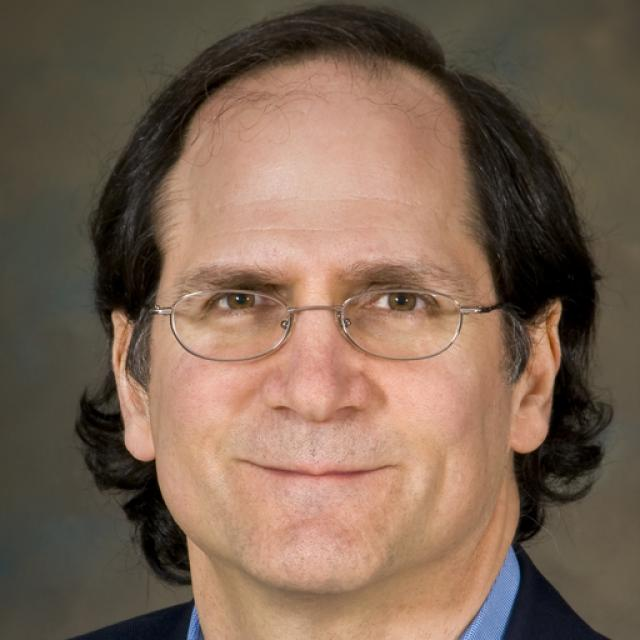Wrinkle: (235, 214, 416, 237)
